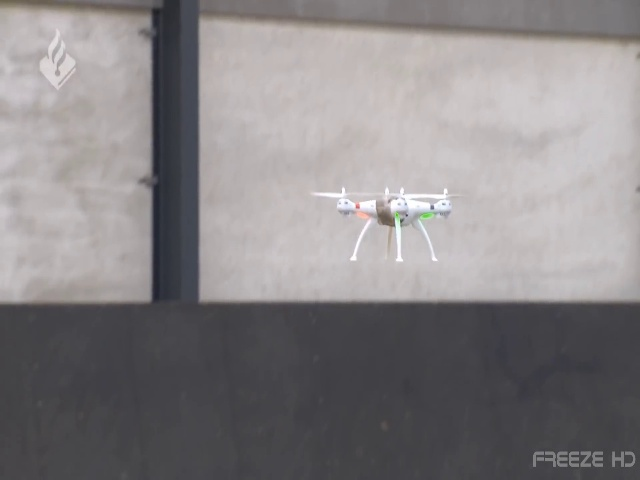drone: (306, 183, 466, 265)
